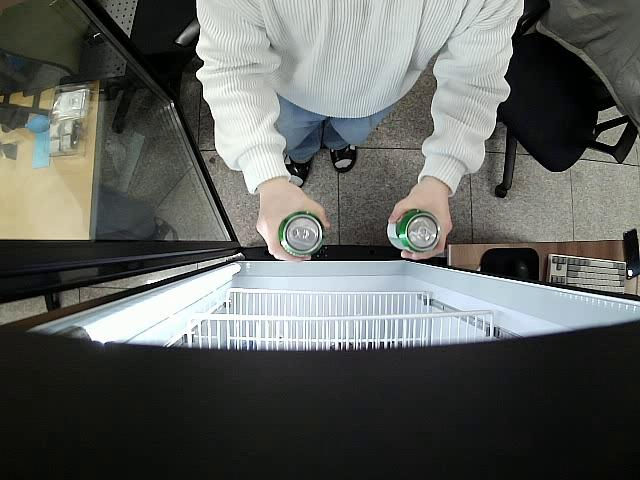00_hand: (255, 183, 331, 262), (389, 193, 453, 259)
12_chilsungCider: (386, 209, 439, 254), (280, 213, 326, 258)
